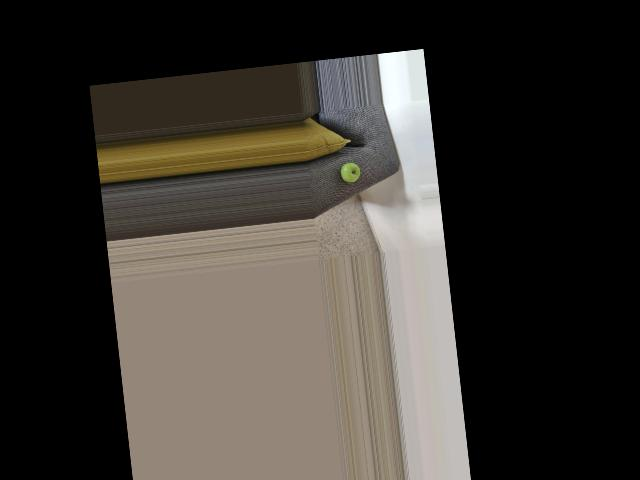apple: (337, 160, 361, 183)
